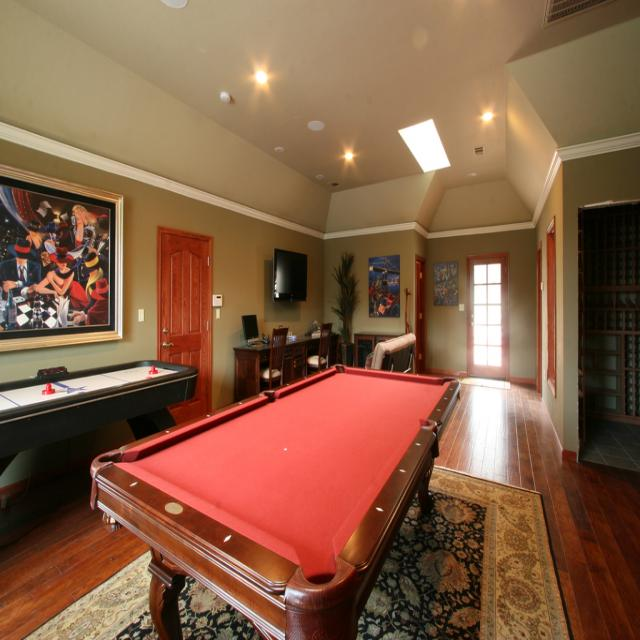Billiard table: (91, 363, 461, 639)
